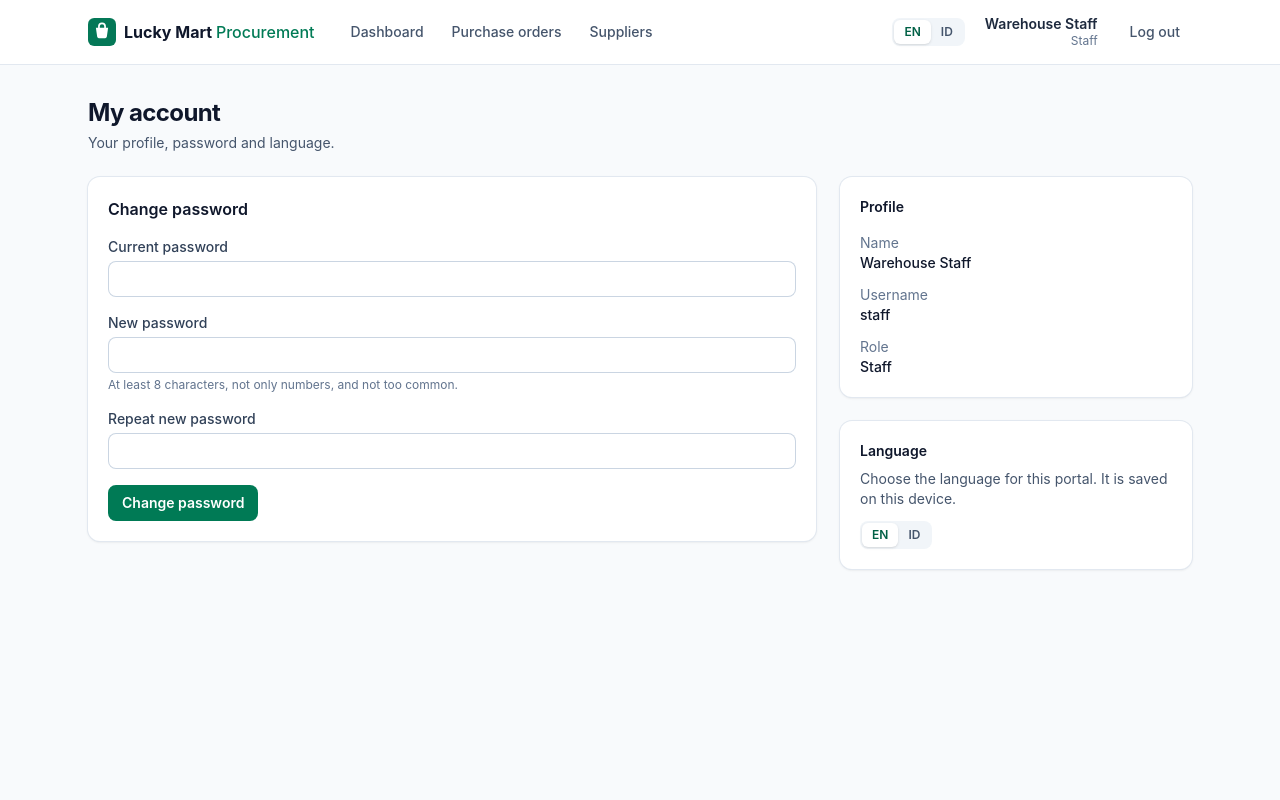
Scenario: account page › changes the password
In the password field labelled "Current password": (452, 279) top-left (108, 261), bottom-right (796, 297), type "old-pass-1"
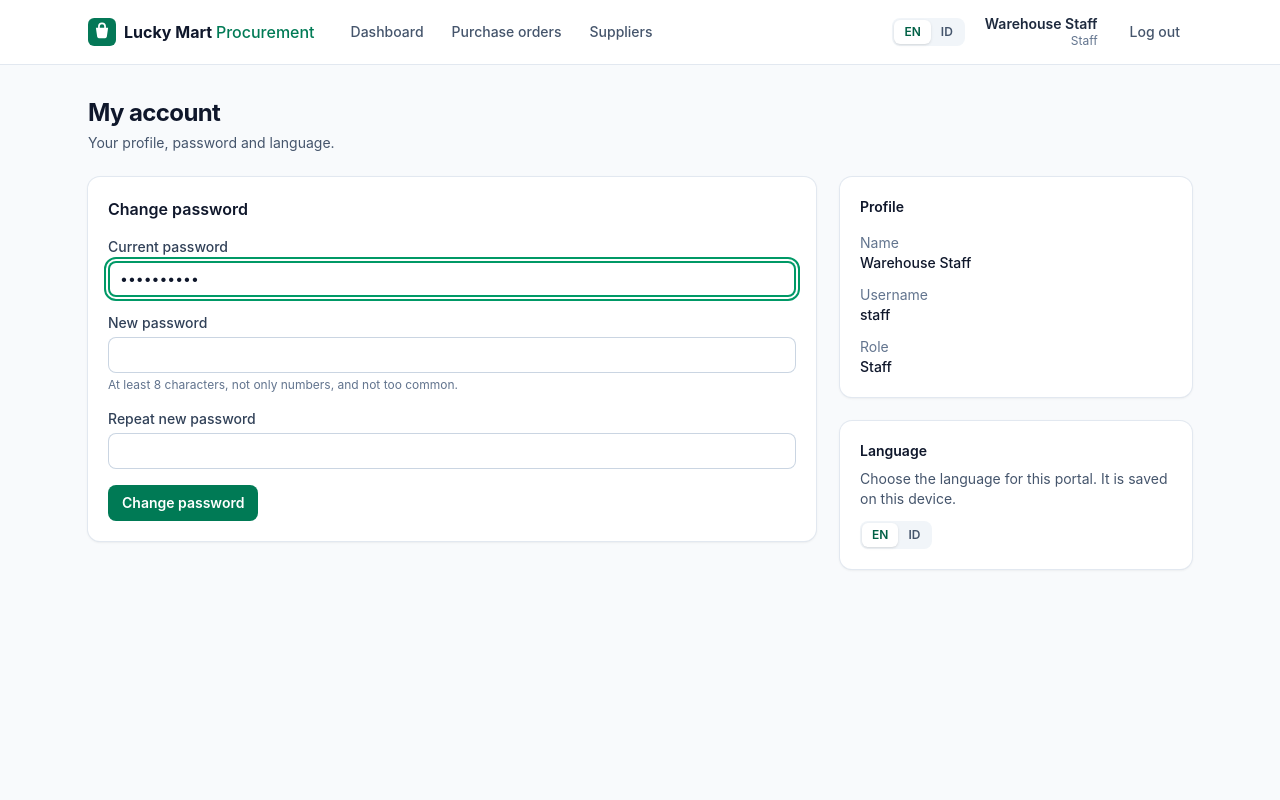
In the password field labelled "New password": (452, 355) top-left (108, 337), bottom-right (796, 373), type "Kopi-Toba-2026"
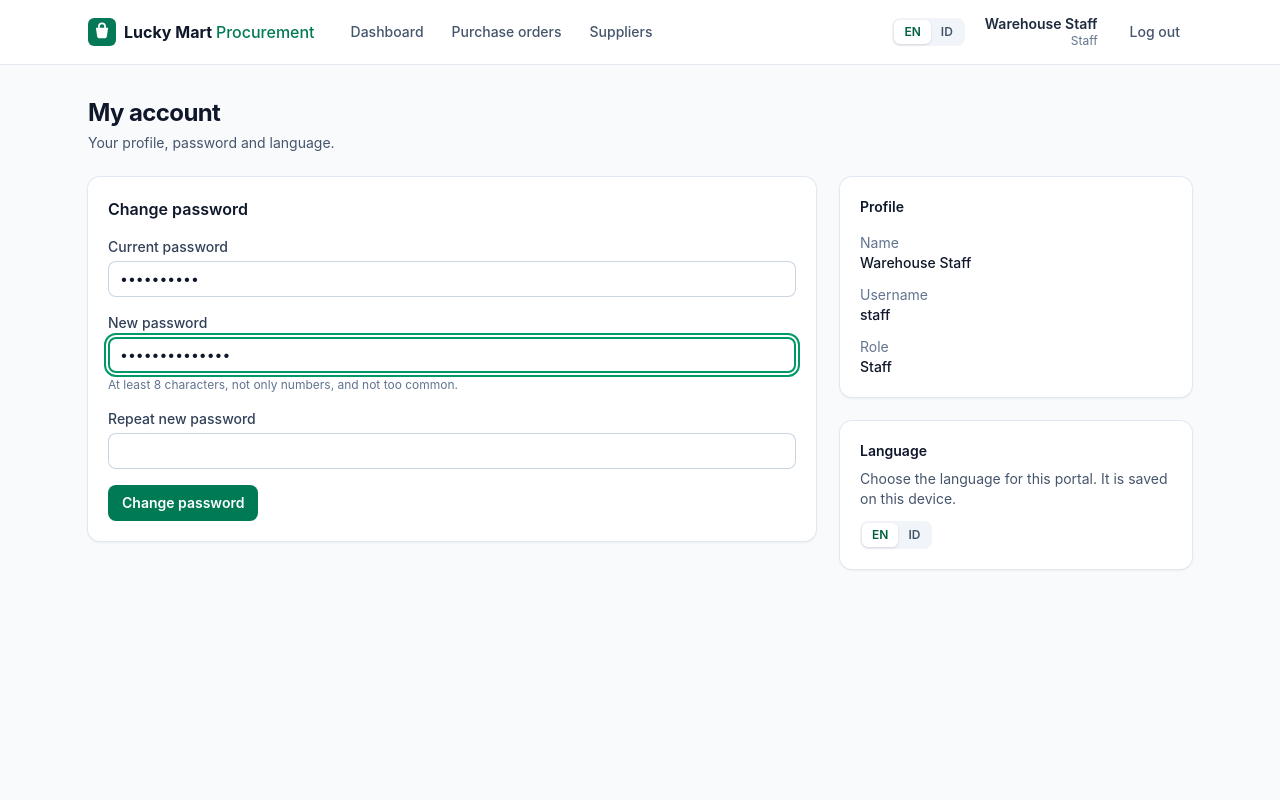
In the password field labelled "Repeat new password": (452, 451) top-left (108, 433), bottom-right (796, 469), type "Kopi-Toba-2026"
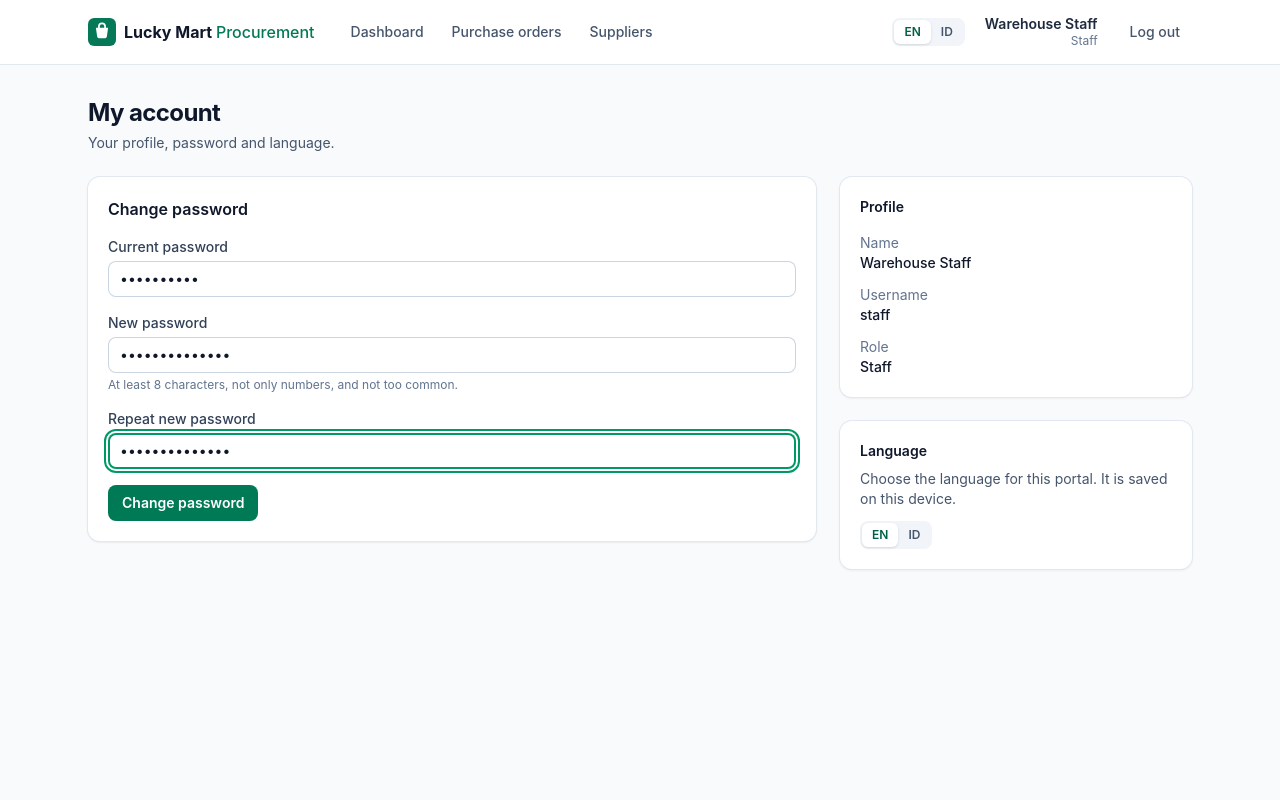
Click the button "Change password": (183, 503) top-left (108, 485), bottom-right (258, 521)
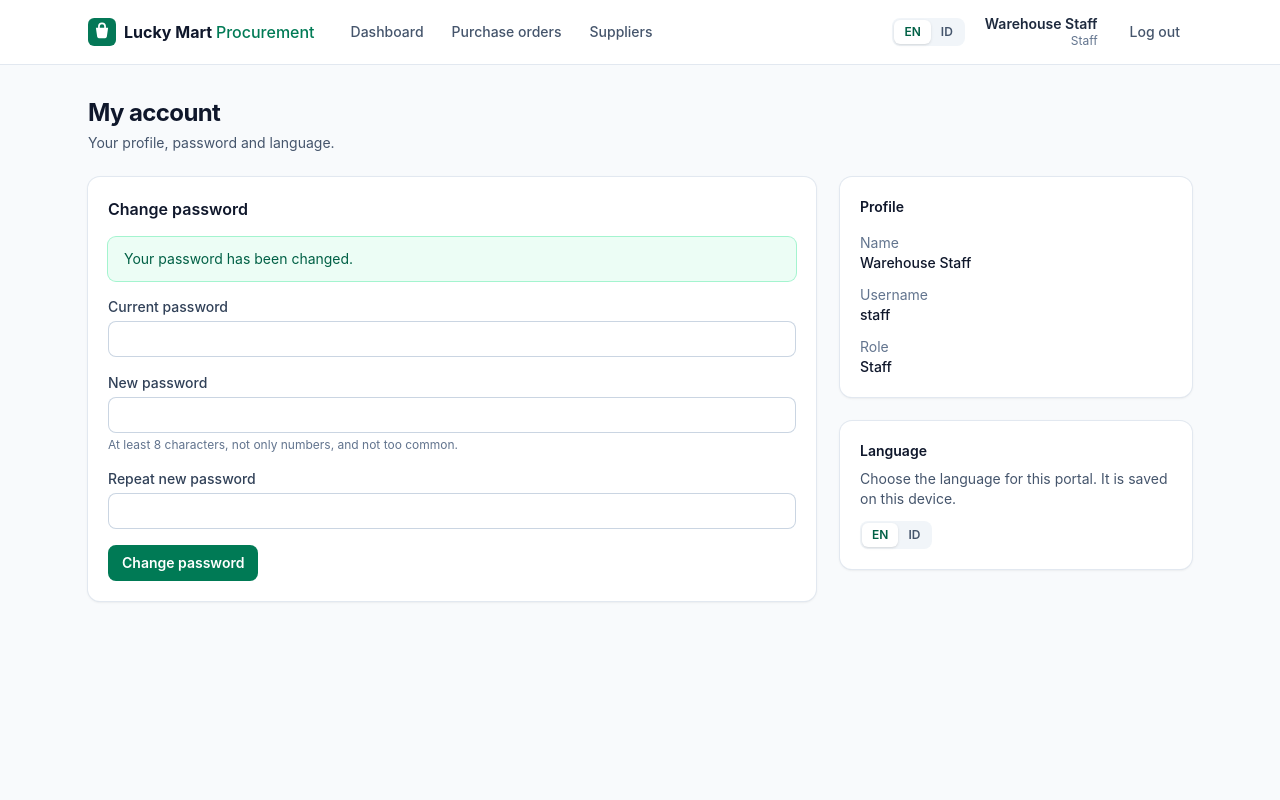
expect the text "Your password has been changed." is shown: met, box top-left (108, 237), bottom-right (796, 281)
